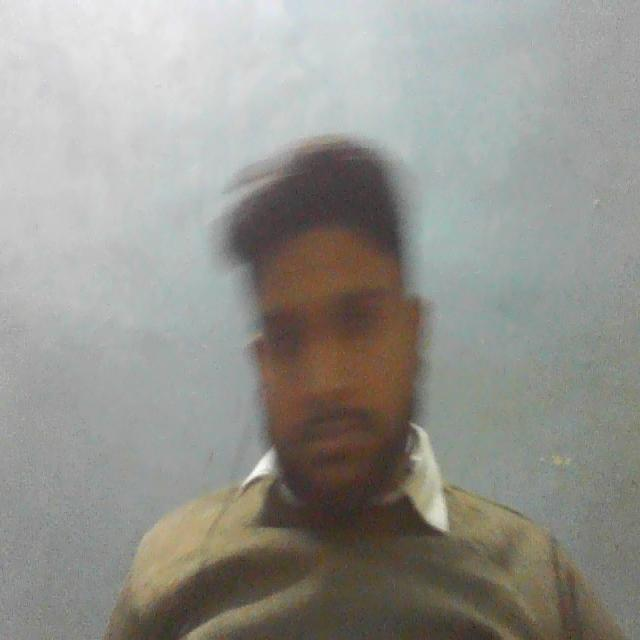real: (230, 130, 440, 526)
